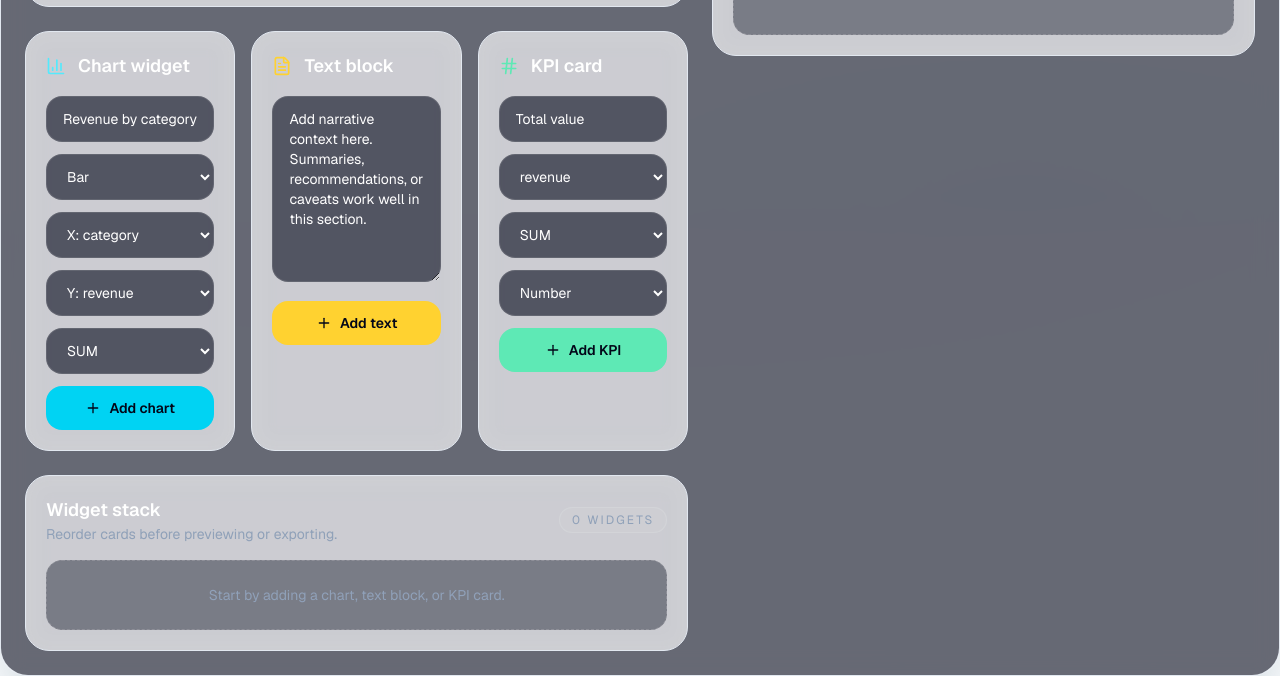
it: ReportBuilder › adds chart widgets to the stack
The image size is (1280, 676).
(page scrolled)
What coordinates should you click on to do the following:
click the button "Add chart"
I would click on:
 (130, 408)
Its box is [46,386,214,430].
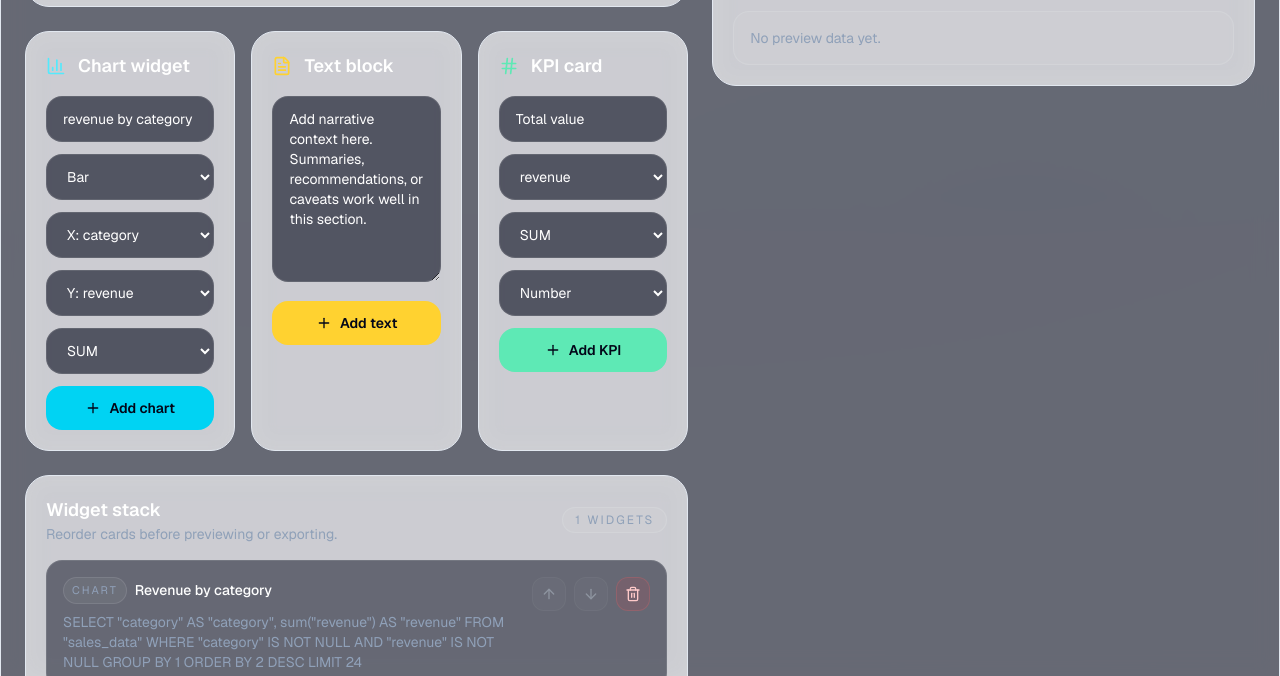
Now the text "Revenue by category" is shown, box [135,580,272,600]
